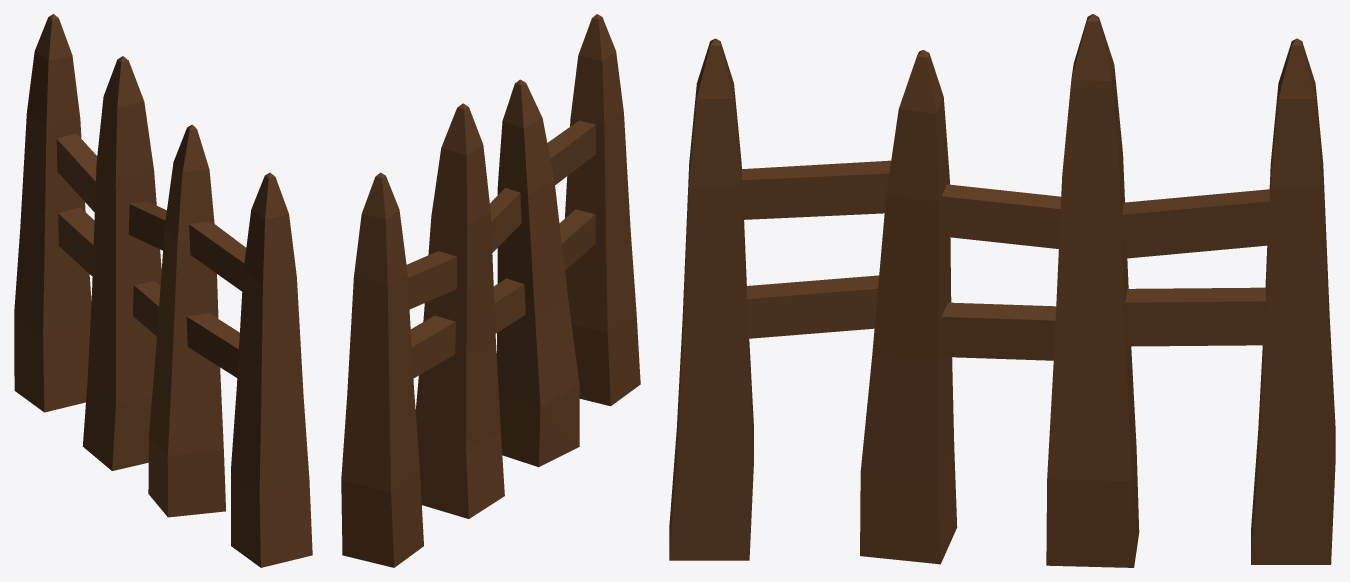
The model's file is fence.dae.
3 renders of one model, left to right at view 1: azimuth 30°, elevation 25°; view 2: azimuth 150°, elevation 25°; view 3: azimuth 270°, elevation 25°, orthographic. The views are drawn at different scales.
Visible parts, largest first — view 1: fence; view 2: fence; view 3: fence.
Part boxes in pixels (x1,y1,x2,y2): fence: [14, 14, 312, 567]; fence: [341, 14, 640, 567]; fence: [669, 14, 1335, 567].
Size of what is drawn, in the model's own units: 0.5967 by 3.61 by 3.19.
